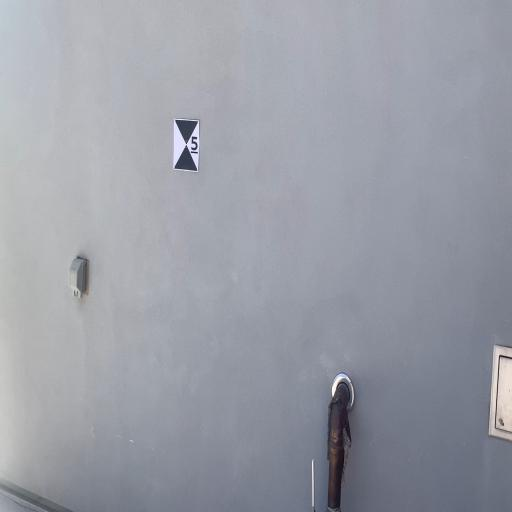target5: (175, 118, 199, 172)
